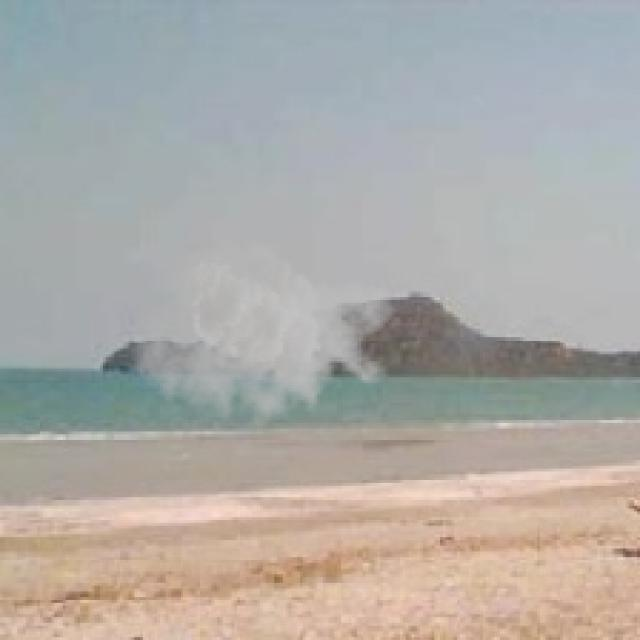smoke: (132, 231, 397, 443)
